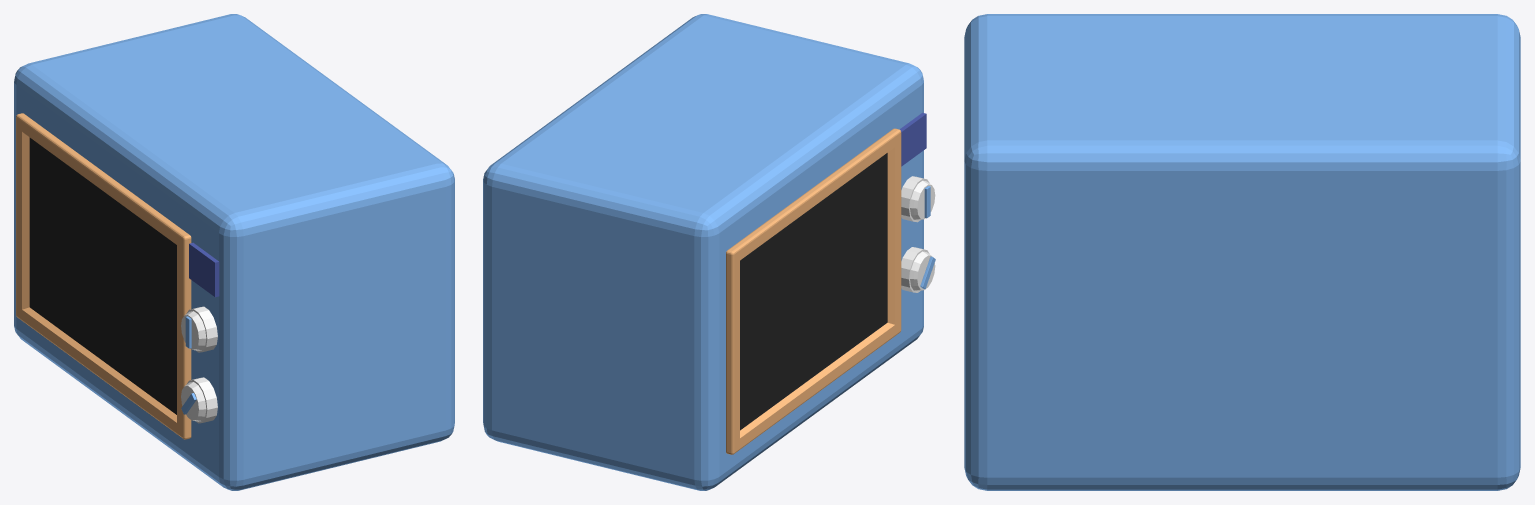
The model's file is Microwave_2.fbx.
The picture shows the model from 3 angles, left to right: view 1: azimuth 30°, elevation 25°; view 2: azimuth 150°, elevation 25°; view 3: azimuth 270°, elevation 25°; orthographic projection. The views are drawn at different scales.
Visible parts, largest first — view 1: Microwave_2, Microwave_2 Door; view 2: Microwave_2, Microwave_2 Door; view 3: Microwave_2.
Part boxes in pixels (x1,y1,x2,y2): Microwave_2: (14,14,454,490); Microwave_2 Door: (16,113,191,439); Microwave_2: (483,14,935,490); Microwave_2 Door: (726,128,901,454); Microwave_2: (964,14,1520,490).
Size of the model in its own units: 0.3156 by 0.3295 by 0.4767.
